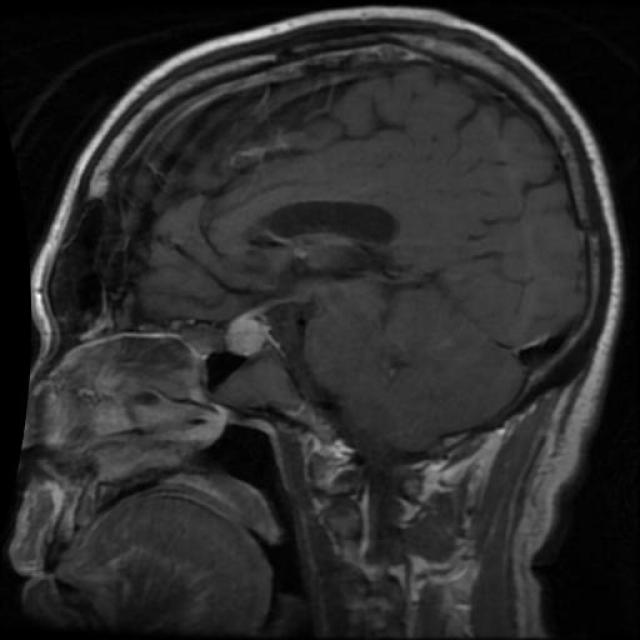Brain-Tumor: (211, 300, 288, 364)
